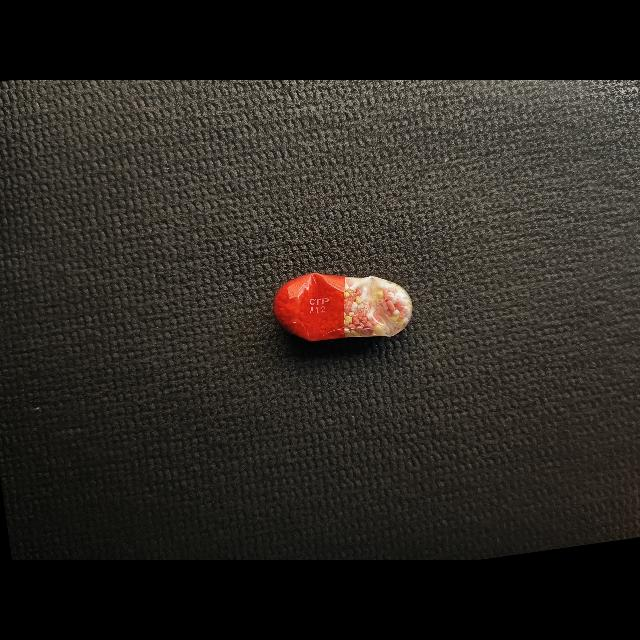Defective Capsule: (273, 273, 413, 342)
